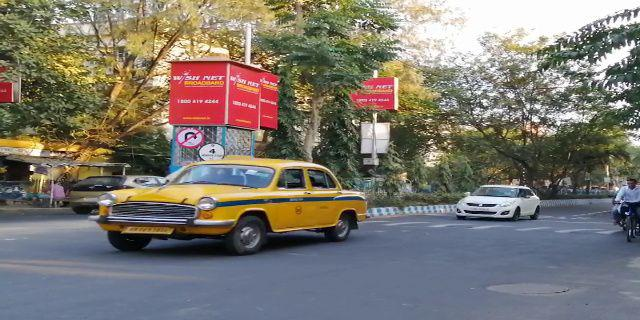Car: (93, 155, 373, 256), (455, 179, 544, 224)
Cycle: (611, 175, 640, 242)
